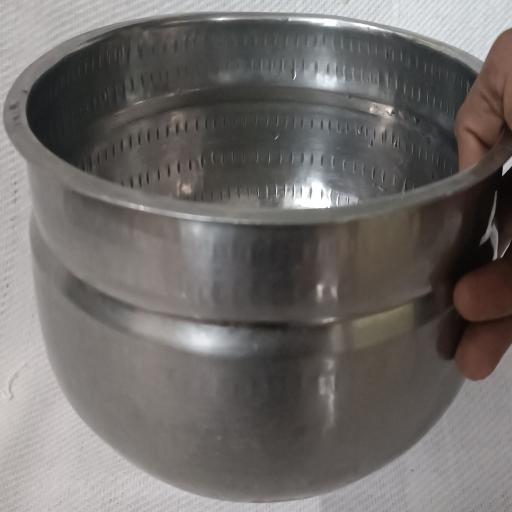vessel: (4, 14, 512, 501)
